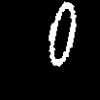chain: (49, 2, 75, 65)
